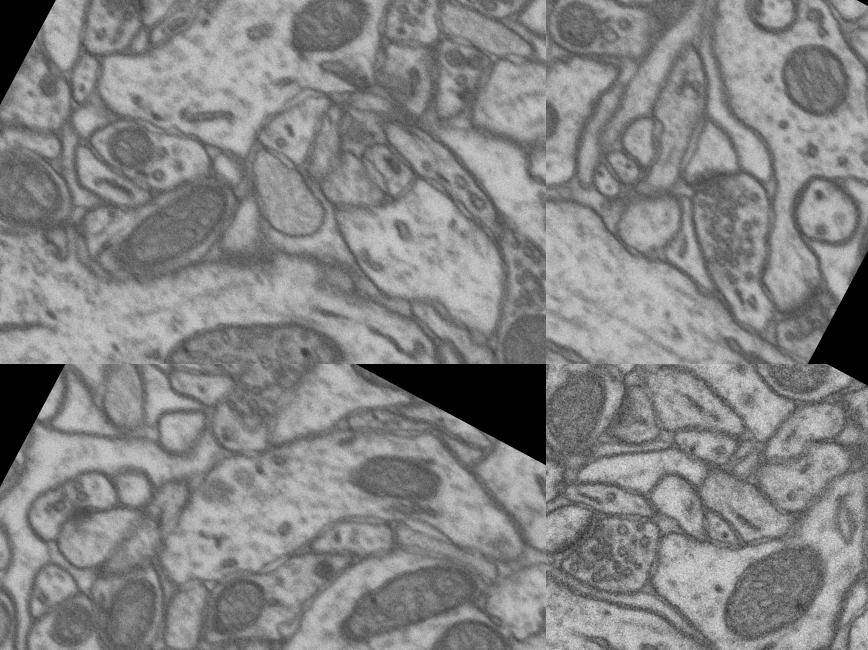mitochondria: (144, 255, 367, 364), (103, 148, 250, 306), (324, 521, 485, 650), (691, 519, 834, 650), (755, 17, 868, 142), (345, 426, 466, 535), (0, 132, 88, 252), (546, 367, 633, 487), (270, 0, 385, 82), (189, 556, 283, 650), (85, 559, 178, 650), (83, 104, 175, 188), (413, 593, 531, 650), (546, 0, 633, 68), (470, 287, 546, 364), (753, 364, 846, 411), (43, 594, 98, 650), (0, 573, 32, 650)
